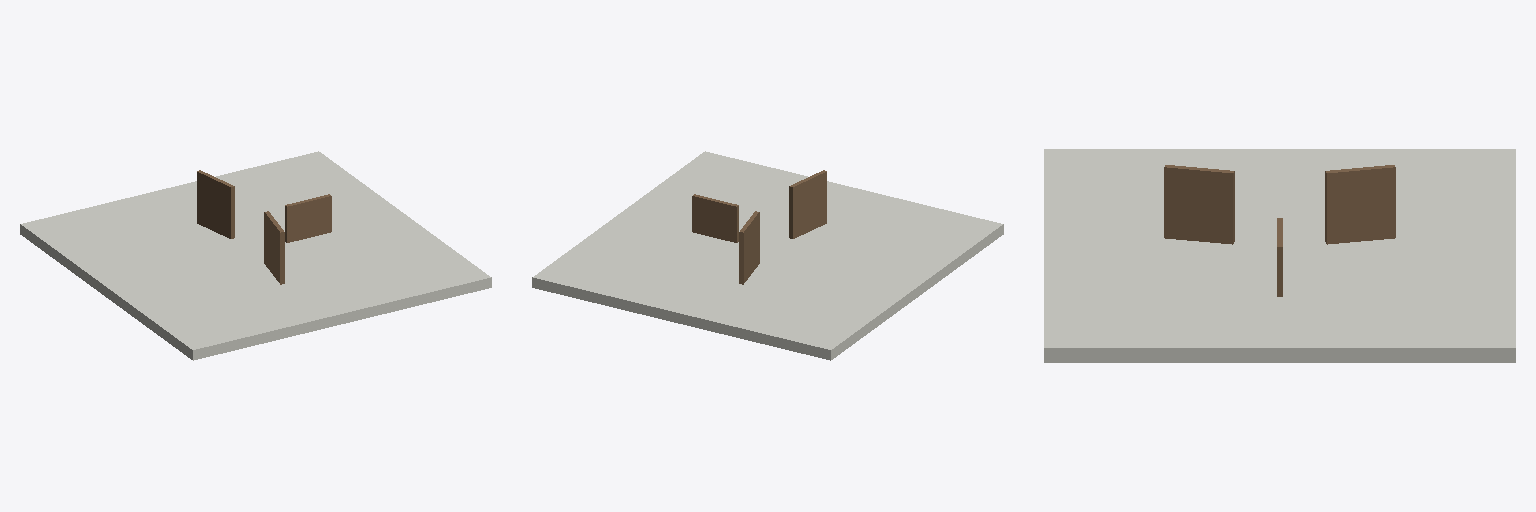
The robot description file, URDF, robot "env":
<?xml version="1.0"?>
<robot name="env">
  <link name="env_link">
    <inertial><mass value="0.1"/><inertia ixx="1e-4" ixy="0" ixz="0" iyy="1e-4" iyz="0" izz="1e-4"/></inertial>
    <collision><origin xyz="0.525 0 0.175" rpy="0 -0 0"/><geometry><box size="0.45 0.04 0.35"/></geometry></collision>
    <collision><origin xyz="-0.109153638 0.51352749 0.25" rpy="0 -0 1.78023584"/><geometry><box size="0.45 0.04 0.5"/></geometry></collision>
    <collision><origin xyz="-0.109153638 -0.51352749 0.25" rpy="0 0 -1.78023584"/><geometry><box size="0.45 0.04 0.5"/></geometry></collision>
    <collision><origin xyz="0 0 -0.06" rpy="0 -0 0"/><geometry><box size="3 3 0.1"/></geometry></collision>
    <visual><origin xyz="0.525 0 0.175" rpy="0 -0 0"/><geometry><box size="0.45 0.04 0.35"/></geometry><material name="env_link_0"><color rgba="0.55 0.45 0.35 0.6"/></material></visual>
    <visual><origin xyz="-0.109153638 0.51352749 0.25" rpy="0 -0 1.78023584"/><geometry><box size="0.45 0.04 0.5"/></geometry><material name="env_link_1"><color rgba="0.55 0.45 0.35 0.6"/></material></visual>
    <visual><origin xyz="-0.109153638 -0.51352749 0.25" rpy="0 0 -1.78023584"/><geometry><box size="0.45 0.04 0.5"/></geometry><material name="env_link_2"><color rgba="0.55 0.45 0.35 0.6"/></material></visual>
    <visual><origin xyz="0 0 -0.06" rpy="0 -0 0"/><geometry><box size="3 3 0.1"/></geometry><material name="env_link_3"><color rgba="0.85 0.85 0.82 0.35"/></material></visual>
  </link>
</robot>

--- What the picture shows (computed from the rendered views, not written in the file) ---
The picture shows the robot from 3 angles, left to right: view 1: azimuth 30°, elevation 25°; view 2: azimuth 150°, elevation 25°; view 3: azimuth 270°, elevation 25°; orthographic projection.
Robot: env — 1 links, 0 joints (none); root link env_link; default pose: every joint at zero.
Visible links, largest first — view 1: env_link; view 2: env_link; view 3: env_link.
Link boxes in pixels (x1,y1,x2,y2): env_link: (20,151,491,360); env_link: (532,151,1003,360); env_link: (1044,149,1515,362).
Size in the robot's own frame: 3 by 3 by 0.61 metres.
Geometry: primitives only (box / cylinder / sphere), no mesh files.
